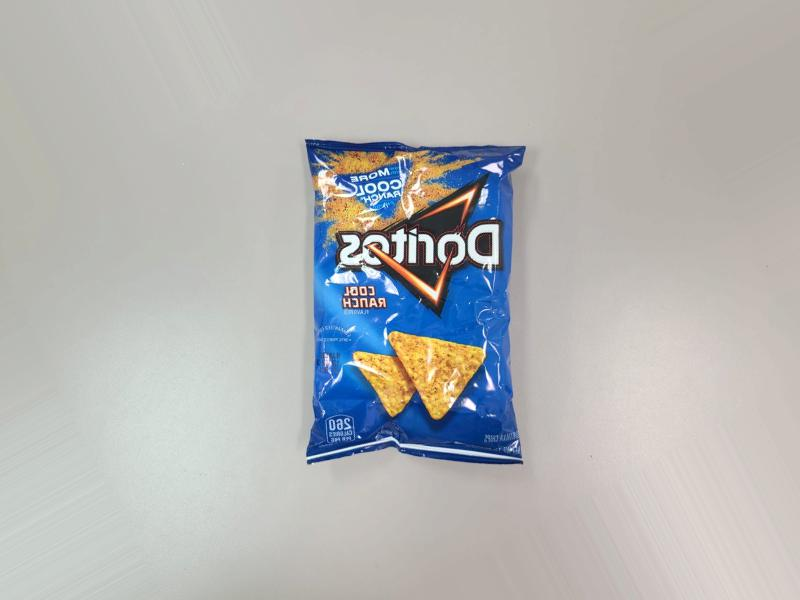doritos: (319, 161, 504, 440)
